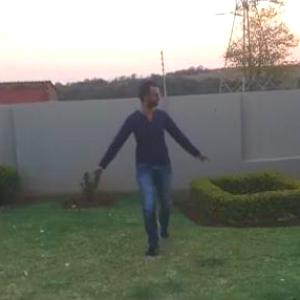land: (74, 67, 228, 282)
